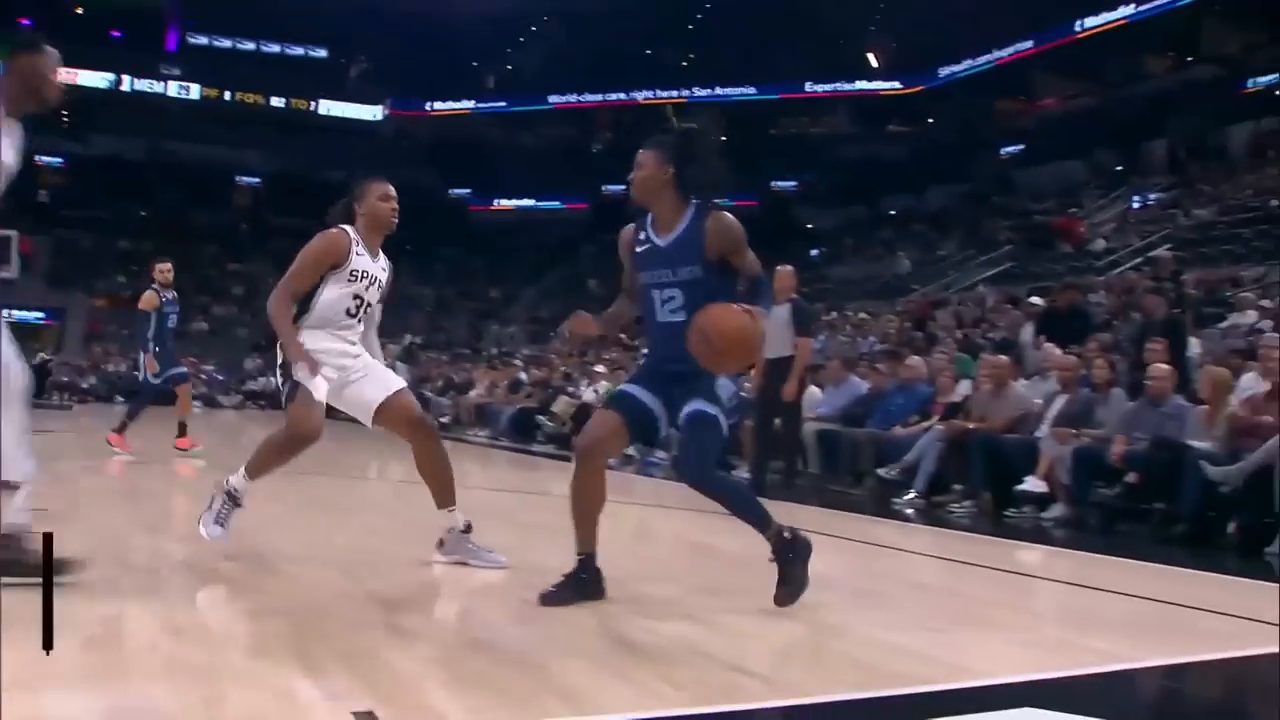ball: (675, 293, 774, 383)
